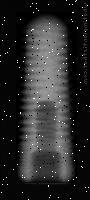Implant Direct: (16, 12, 77, 183)
